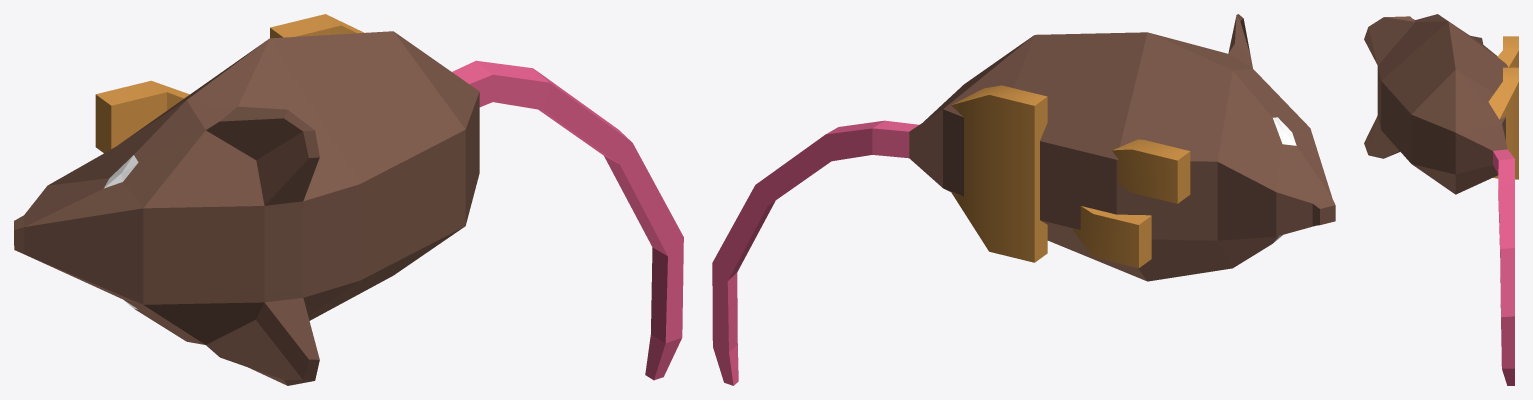
Rendered from rat who is sleeping .fbx.
The picture shows the model from 3 angles, left to right: view 1: azimuth 30°, elevation 25°; view 2: azimuth 150°, elevation 25°; view 3: azimuth 270°, elevation 25°; orthographic projection. The views are drawn at different scales.
Parts seen in each view (by area): view 1: Mouse_01; view 2: Mouse_01; view 3: Mouse_01.
Boxes of the visible parts, left/top/right/bottom form: Mouse_01: left=14, top=14, right=683, bottom=385; Mouse_01: left=712, top=14, right=1335, bottom=385; Mouse_01: left=1364, top=14, right=1518, bottom=385.
Bounding box in the file's own units: 2010 × 1333 × 742.
